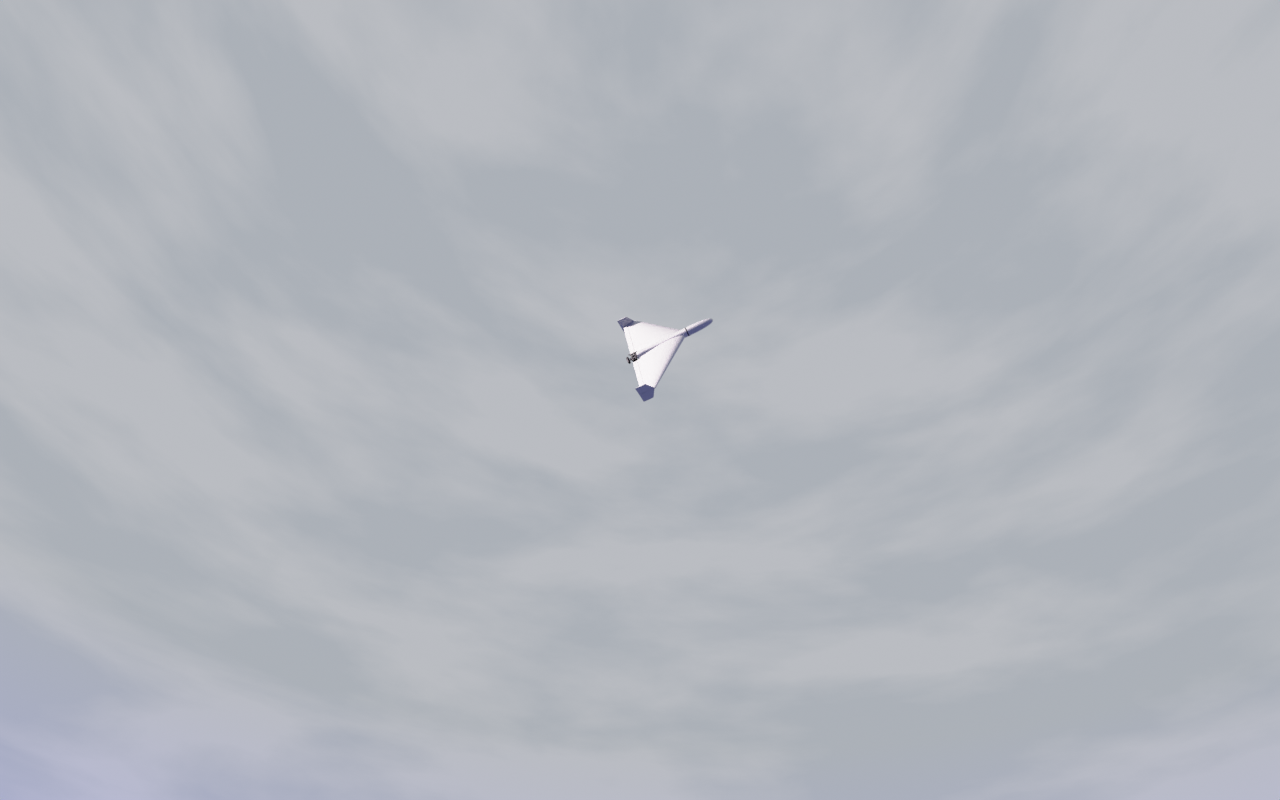shahed: (617, 317, 715, 404)
